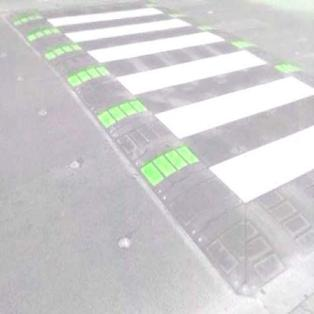Paso de Cebra: (113, 36, 314, 142)
